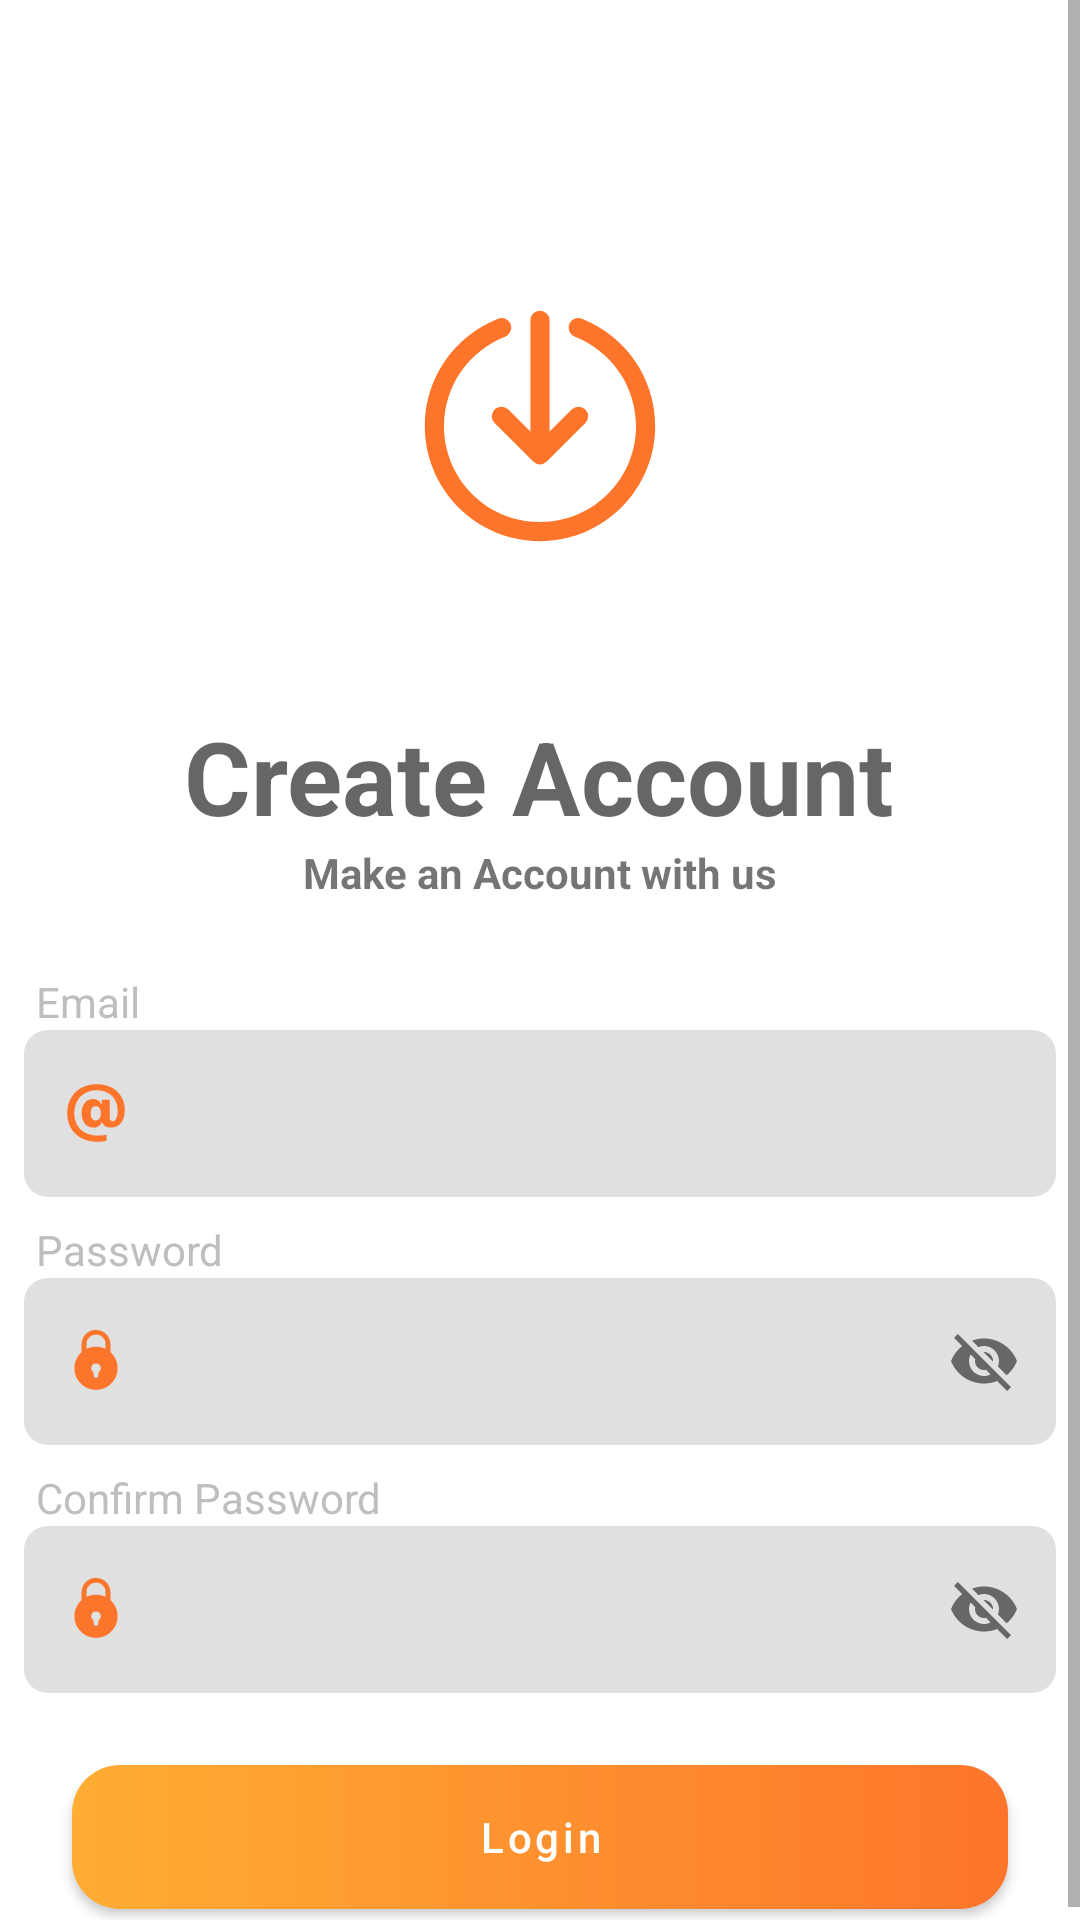

Screen size 1080×1920. Icon name, then its center in pixels as (x,y):
signin: (540,426)
